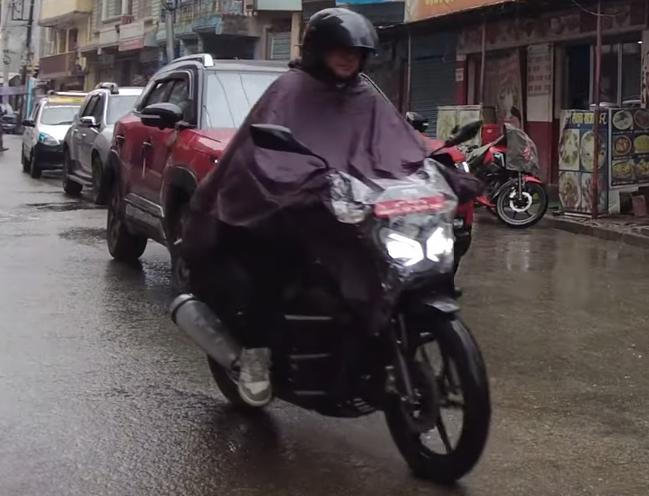bike: (161, 114, 493, 484)
